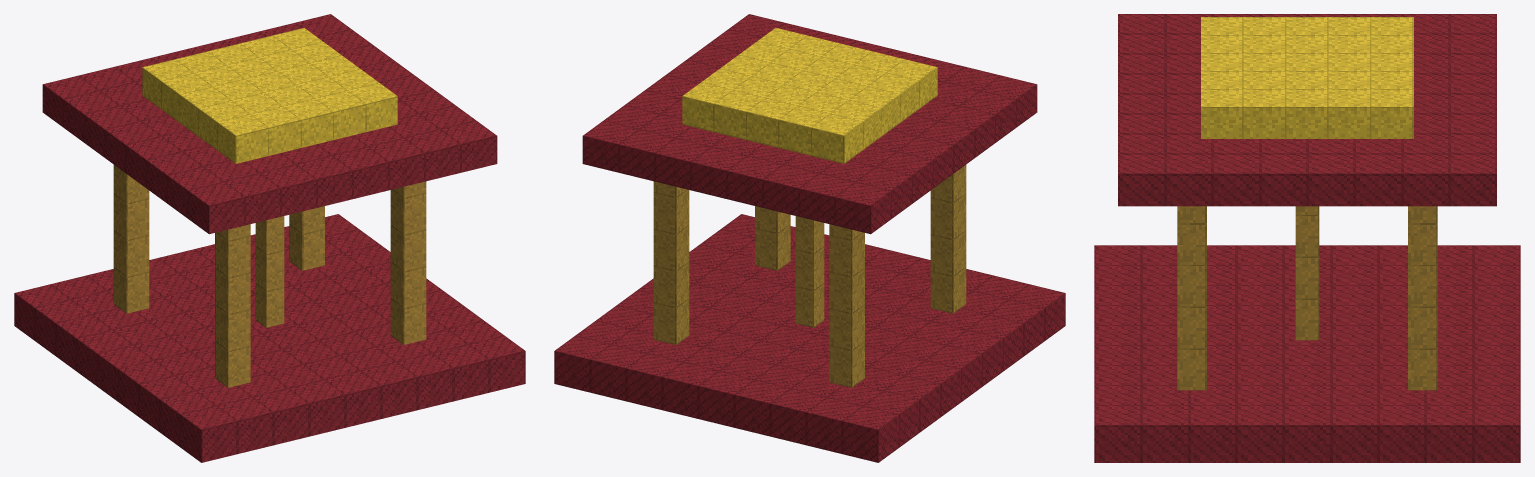
The model's file is carnivalCarousel.glb.
3 views of the same model, side by side, from view 1: azimuth 30°, elevation 25°; view 2: azimuth 150°, elevation 25°; view 3: azimuth 270°, elevation 25° (orthographic). The views are drawn at different scales.
Visible parts, largest first — view 1: carnivalCarousel_0; view 2: carnivalCarousel_0; view 3: carnivalCarousel_0.
Boxes of the visible parts, x1=… form: carnivalCarousel_0: x1=14, y1=14, x2=525, y2=462; carnivalCarousel_0: x1=554, y1=14, x2=1065, y2=462; carnivalCarousel_0: x1=1094, y1=14, x2=1520, y2=462.
Size of the model in its own units: 4.5 by 3.62 by 4.5.
Materials: 1 (1 with a texture image).
